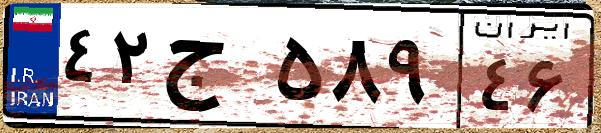2: (110, 28, 158, 98)
4: (57, 26, 110, 100), (475, 38, 525, 113)
5: (270, 28, 330, 110)
6: (525, 38, 570, 115)
8: (330, 28, 385, 110)
9: (385, 28, 445, 110)
ج: (158, 20, 270, 120)
